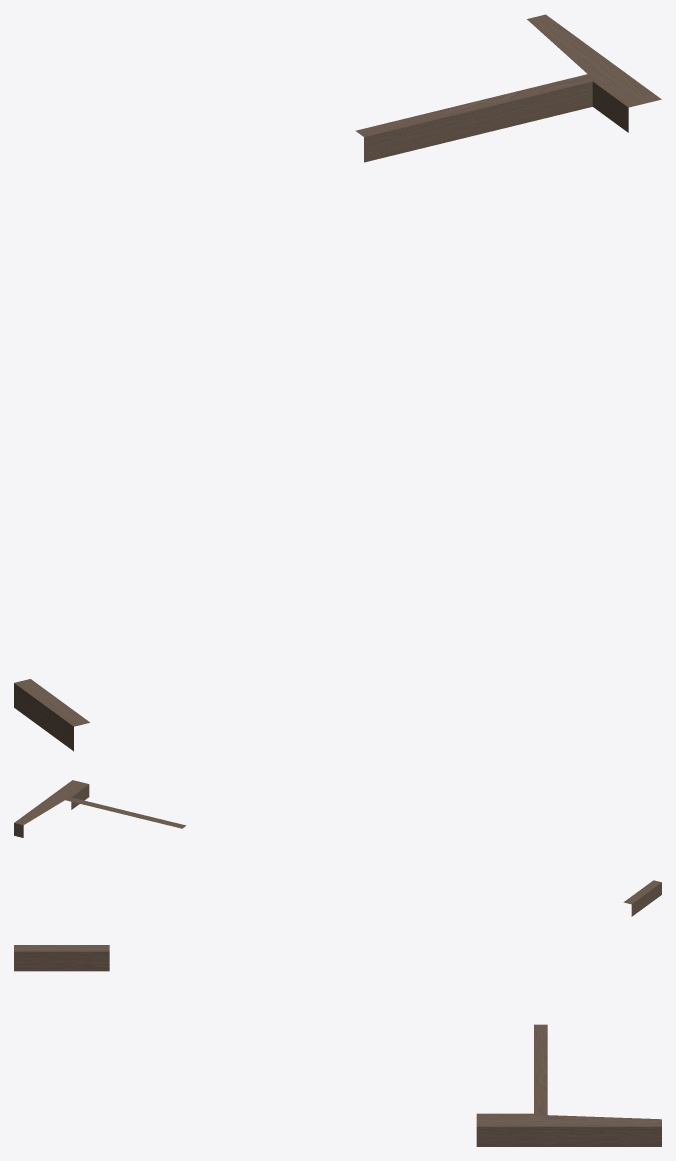
The model's file is kd_stage_135ded_4_141.glb.
3 renders of one model, top to bottom at view 1: azimuth 30°, elevation 25°; view 2: azimuth 150°, elevation 25°; view 3: azimuth 270°, elevation 25°, orthographic. The views are drawn at different scales.
Parts seen in each view (by area): view 1: kd_stage_135ded_4_141; view 2: kd_stage_135ded_4_141; view 3: kd_stage_135ded_4_141.
Boxes of the visible parts, x1,y1,x2,y2 form: kd_stage_135ded_4_141: (14,14,661,751); kd_stage_135ded_4_141: (14,780,661,916); kd_stage_135ded_4_141: (14,945,661,1146).
Bounding box in the file's own units: 7.17 × 1.76 × 5.75.
Materials: 1 (1 with a texture image).
